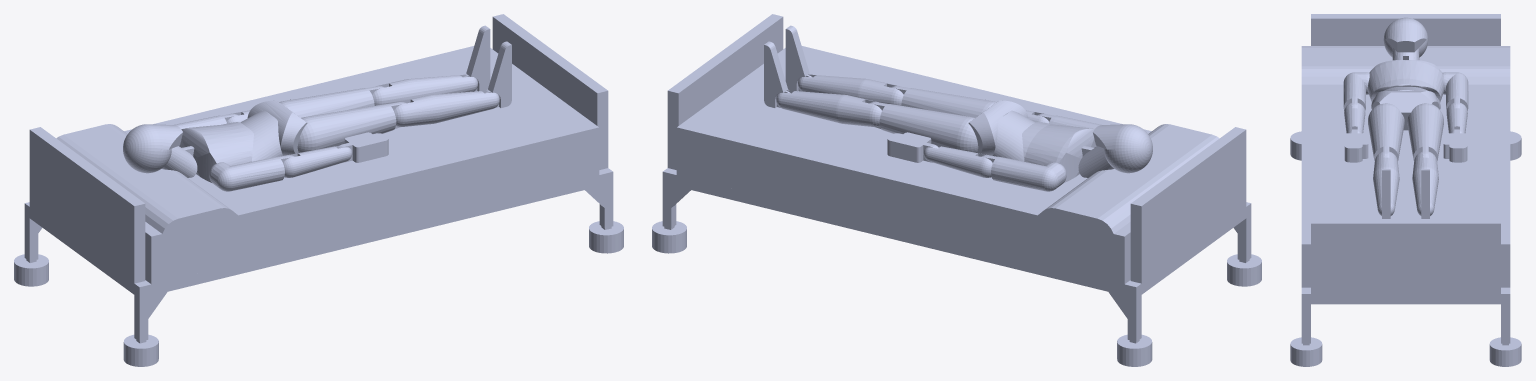
The model's file is bed_and_body_v2.dae.
3 views of the same model, side by side, from view 1: azimuth 30°, elevation 25°; view 2: azimuth 150°, elevation 25°; view 3: azimuth 270°, elevation 25° (orthographic). The views are drawn at different scales.
Parts seen in each view (by area): view 1: bed_frame_link, leg_rest_lower_link, head_rest_link, leg_rest_upper_link, quad_right_link, base_link, upper_body_link, calf_right_link, head_link, calf_left_link, arm_right_link, quad_left_link (+7 smaller); view 2: bed_frame_link, leg_rest_lower_link, head_rest_link, leg_rest_upper_link, quad_left_link, base_link, upper_body_link, calf_left_link, head_link, calf_right_link, arm_left_link, quad_right_link (+7 smaller); view 3: bed_frame_link, head_rest_link, leg_rest_lower_link, leg_rest_upper_link, base_link, upper_body_link, quad_left_link, quad_right_link, head_link, lower_body_link, calf_left_link, calf_right_link (+10 smaller).
Boxes of the visible parts, left/top/right/bottom form: bed_frame_link: left=24, top=14, right=613, bottom=341; leg_rest_lower_link: left=335, top=46, right=599, bottom=211; head_rest_link: left=56, top=114, right=307, bottom=284; leg_rest_upper_link: left=254, top=80, right=449, bottom=231; quad_right_link: left=297, top=102, right=406, bottom=152; base_link: left=14, top=221, right=623, bottom=366; upper_body_link: left=179, top=122, right=253, bottom=182; calf_right_link: left=394, top=90, right=499, bottom=126; head_link: left=123, top=124, right=182, bottom=173; calf_left_link: left=372, top=74, right=477, bottom=105; arm_right_link: left=209, top=155, right=294, bottom=191; quad_left_link: left=279, top=86, right=384, bottom=117; bed_frame_link: left=662, top=14, right=1251, bottom=341; leg_rest_lower_link: left=676, top=46, right=940, bottom=211; head_rest_link: left=968, top=114, right=1219, bottom=284; leg_rest_upper_link: left=826, top=80, right=1021, bottom=231; quad_left_link: left=870, top=102, right=978, bottom=152; base_link: left=652, top=221, right=1261, bottom=366; upper_body_link: left=1022, top=122, right=1096, bottom=182; calf_left_link: left=776, top=90, right=881, bottom=126; head_link: left=1093, top=124, right=1152, bottom=173; calf_right_link: left=798, top=74, right=903, bottom=105; arm_left_link: left=981, top=155, right=1066, bottom=191; quad_right_link: left=891, top=86, right=996, bottom=117; bed_frame_link: left=1301, top=14, right=1510, bottom=343; head_rest_link: left=1301, top=46, right=1510, bottom=115; leg_rest_lower_link: left=1301, top=178, right=1510, bottom=287; leg_rest_upper_link: left=1301, top=142, right=1510, bottom=177; base_link: left=1290, top=131, right=1521, bottom=366; upper_body_link: left=1367, top=60, right=1444, bottom=102; quad_left_link: left=1407, top=103, right=1443, bottom=161; quad_right_link: left=1368, top=103, right=1404, bottom=161; head_link: left=1383, top=17, right=1428, bottom=57; lower_body_link: left=1373, top=91, right=1438, bottom=130; calf_left_link: left=1412, top=151, right=1438, bottom=215; calf_right_link: left=1373, top=151, right=1399, bottom=215.
Size of the model in its own units: 2.28 by 1.01 by 0.8073.
